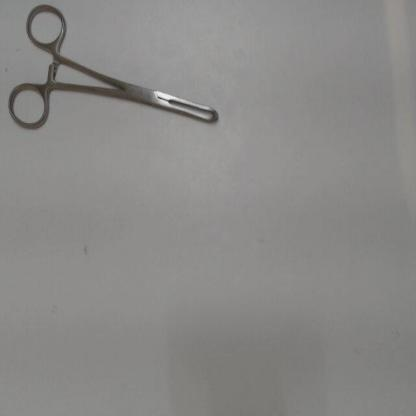Allis Tissue Forceps: (1, 0, 228, 139)
